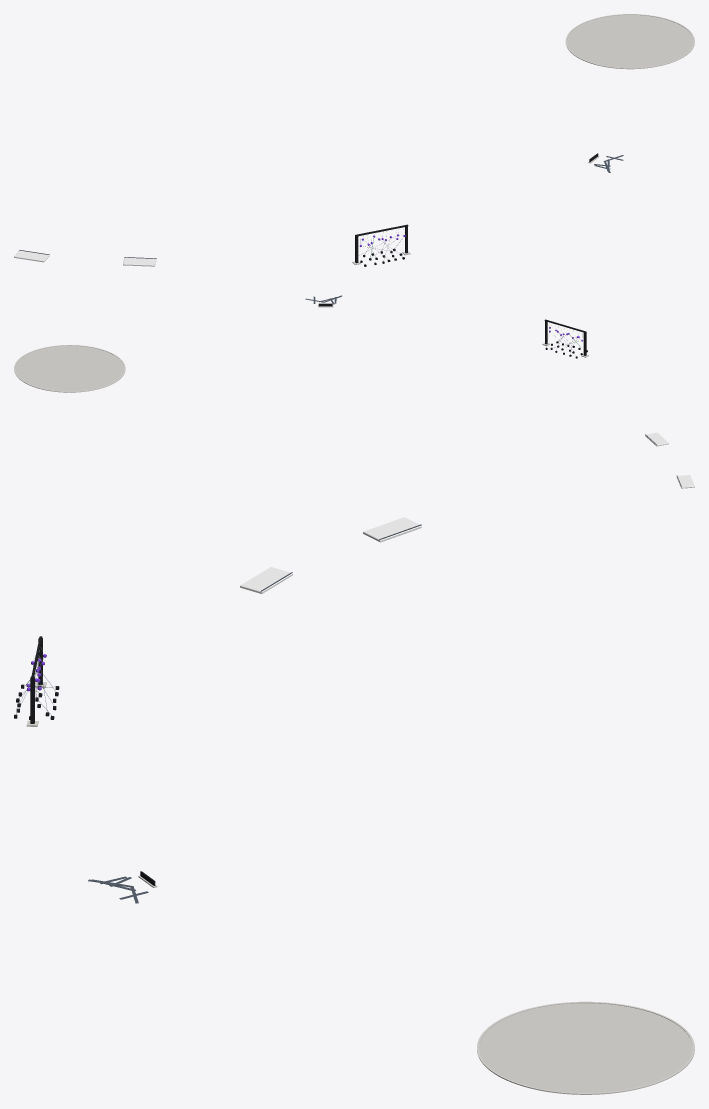
File: evidence.glb
3 views of the same model, one above another, from view 1: azimuth 30°, elevation 25°; view 2: azimuth 150°, elevation 25°; view 3: azimuth 270°, elevation 25° (orthographic). The views are drawn at different scales.
Bounding box in the file's own units: 519 × 30.44 × 250.
